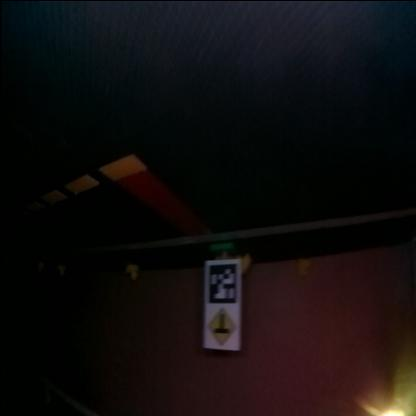Duckie: (126, 263, 138, 280), (298, 260, 308, 276)
Intersection sign: (205, 306, 238, 348)
QR code: (207, 261, 239, 303)
